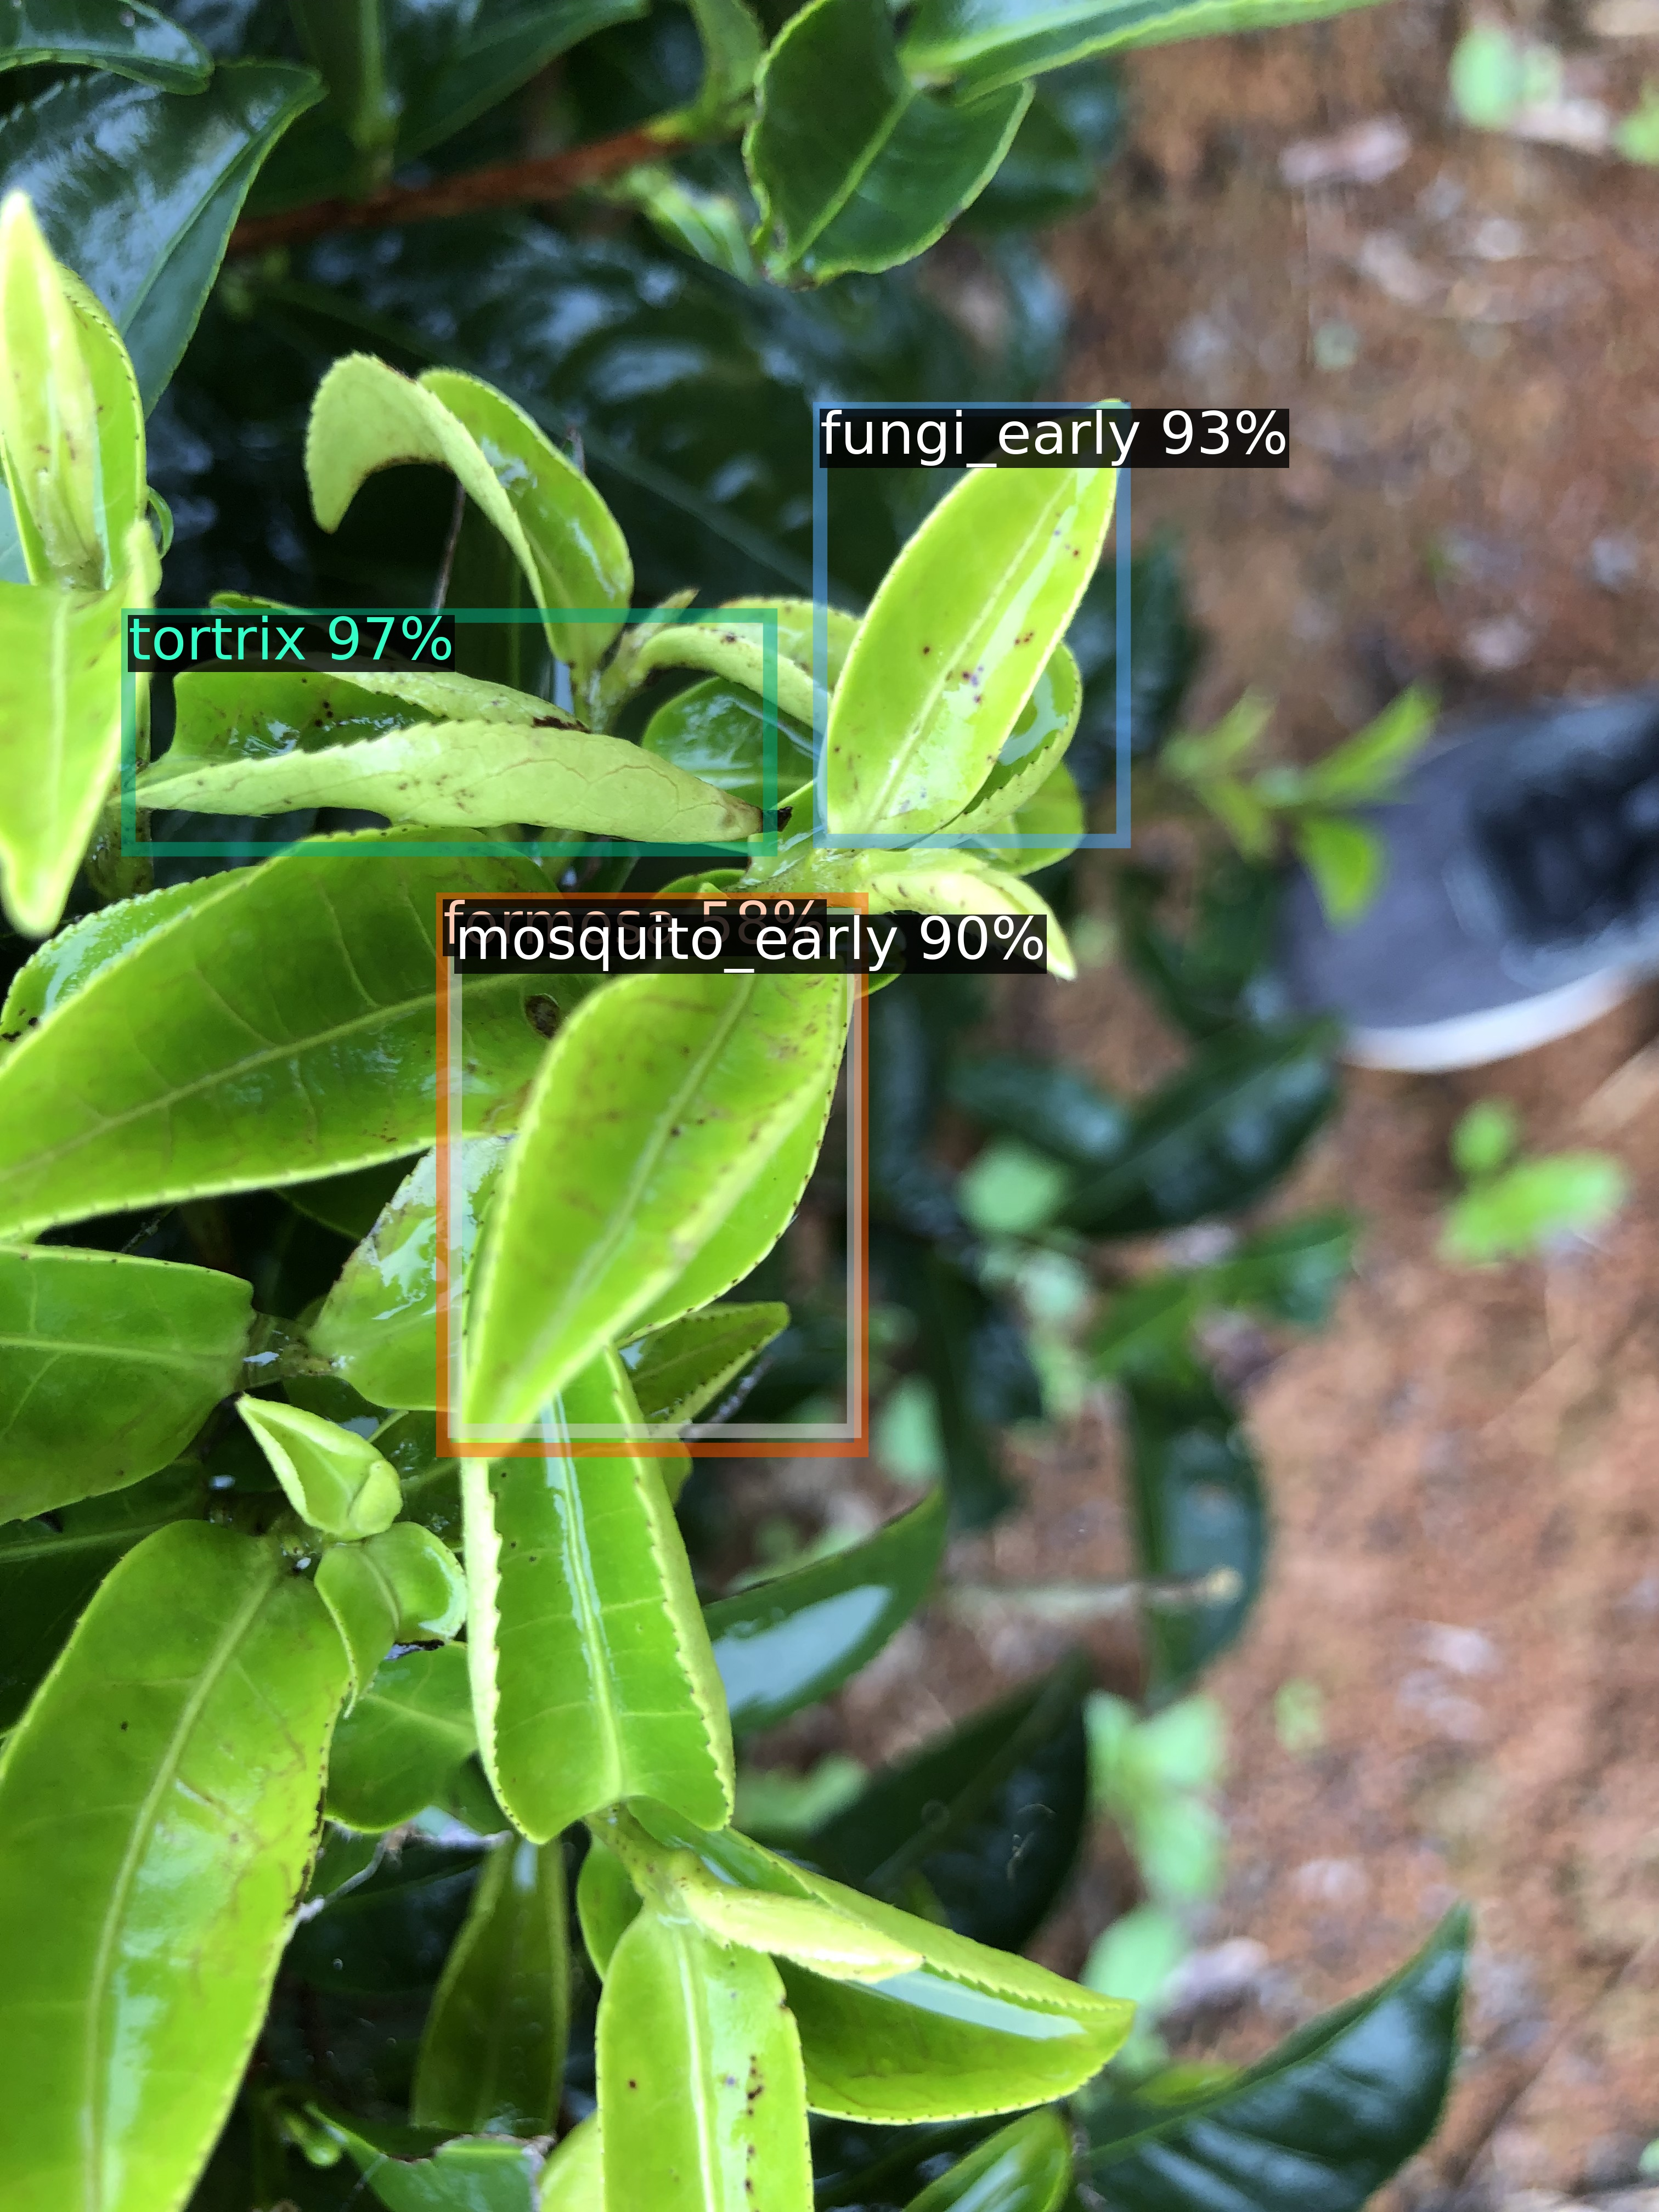formosa: (443, 900, 861, 1449)
fungi_early: (821, 409, 1122, 841)
mosquito_early: (455, 914, 854, 1430)
tortrix: (127, 615, 770, 850)
